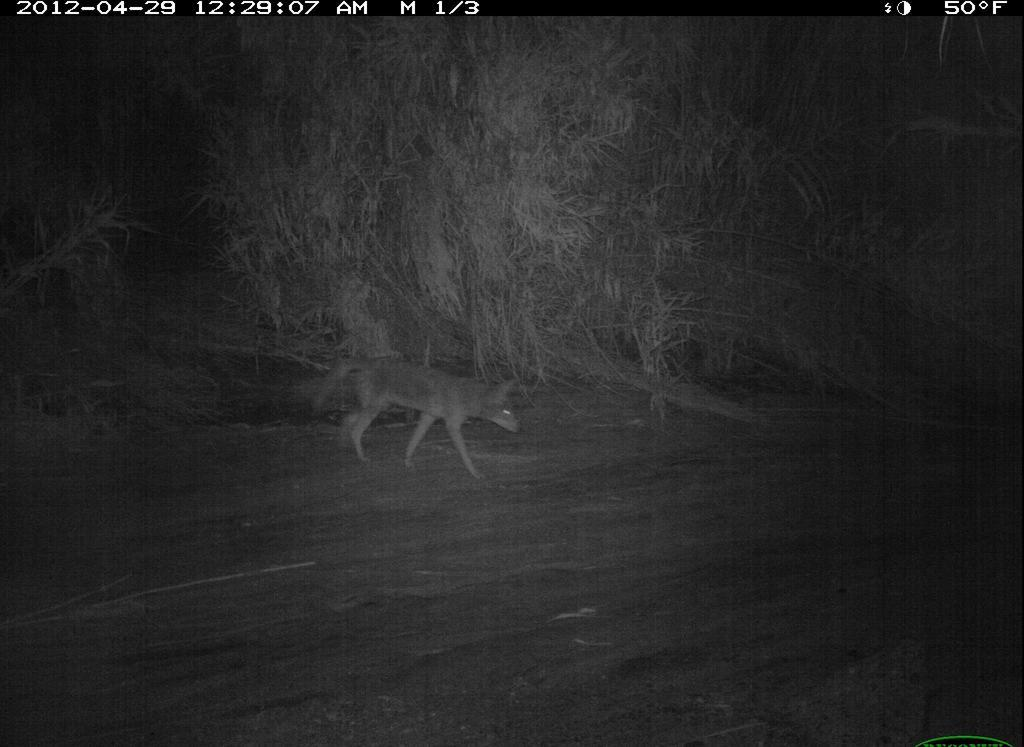coyote: (308, 342, 536, 479)
